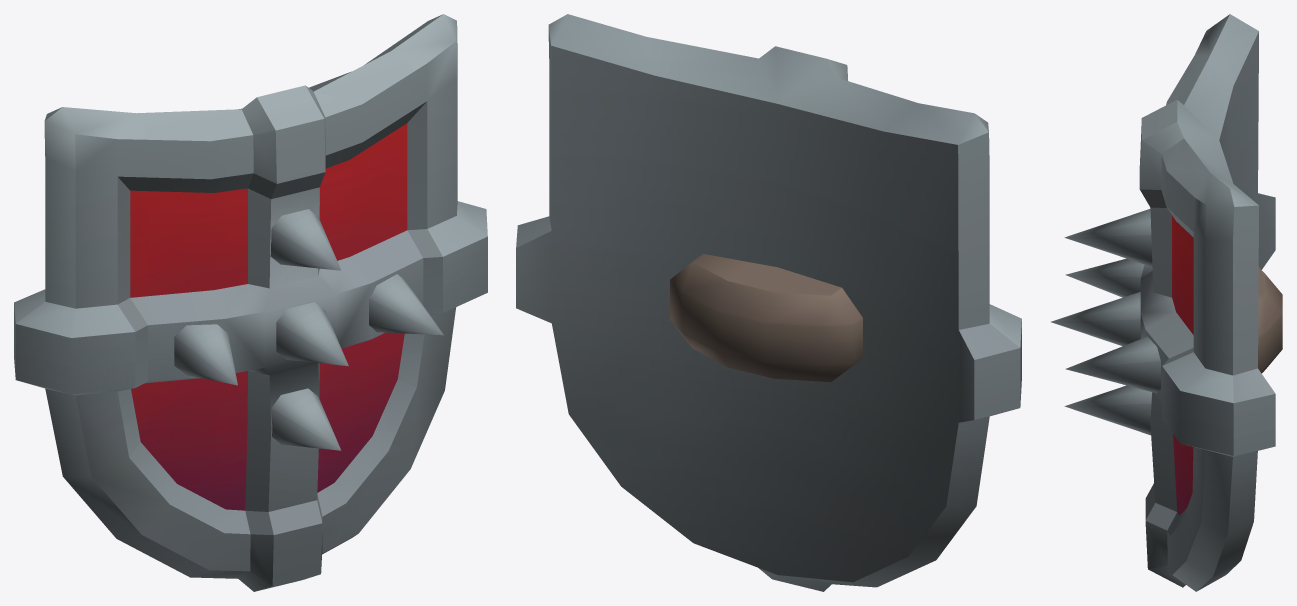
File: kaykit-character-pack-adventures-shield-spikes-color.glb
The picture shows the model from 3 angles, left to right: view 1: azimuth 30°, elevation 25°; view 2: azimuth 150°, elevation 25°; view 3: azimuth 270°, elevation 25°; orthographic projection. The views are drawn at different scales.
Parts seen in each view (by area): view 1: shield_spikes_color; view 2: shield_spikes_color; view 3: shield_spikes_color.
Part boxes in pixels (bbox=[...]): shield_spikes_color: bbox=[14, 14, 487, 591]; shield_spikes_color: bbox=[516, 14, 1021, 591]; shield_spikes_color: bbox=[1051, 14, 1282, 591].
Size of the model in its own units: 1.01 by 1.04 by 0.4598.
Materials: 1 (1 with a texture image).
